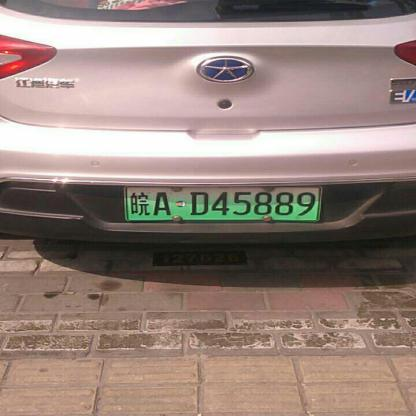lp: (126, 187, 319, 219)
